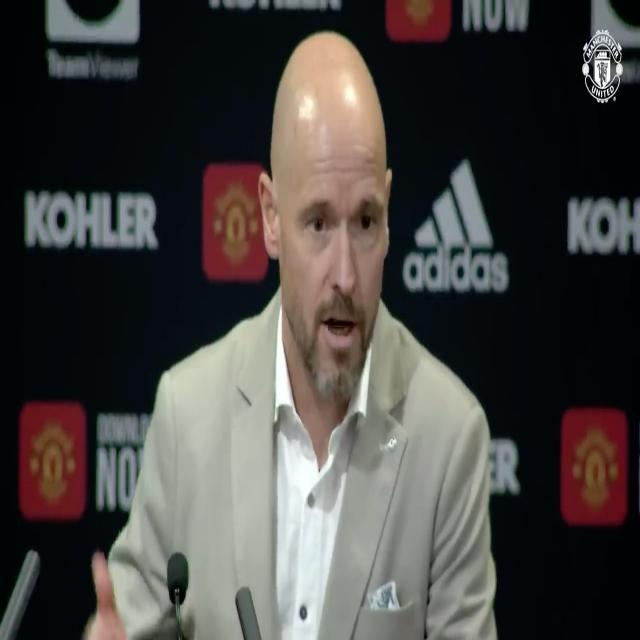Adidas: (402, 156, 508, 292)
Kohler: (25, 192, 158, 247)
TeamViewer: (46, 0, 140, 80)
